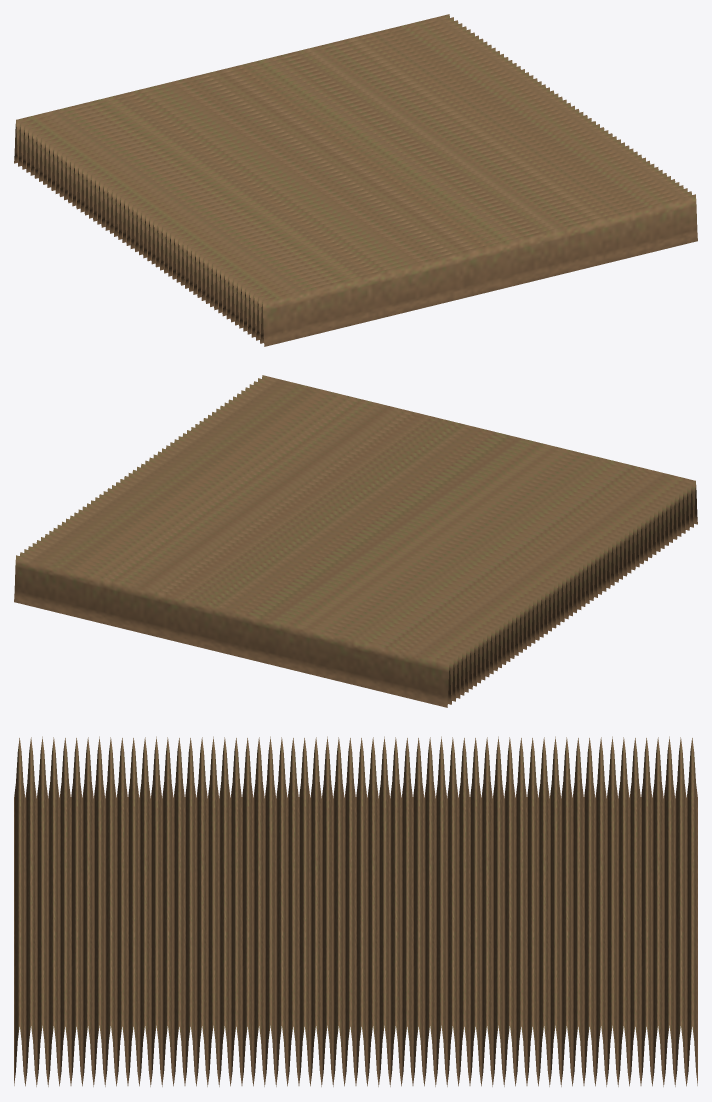
The model's file is field_fallow.glb.
3 renders of one model, top to bottom at view 1: azimuth 30°, elevation 25°; view 2: azimuth 150°, elevation 25°; view 3: azimuth 270°, elevation 25°, orthographic. The views are drawn at different scales.
Visible parts, largest first — view 1: field_fallow; view 2: field_fallow; view 3: field_fallow.
Boxes of the visible parts, <box> form: field_fallow: <box>14,14,697,346</box>; field_fallow: <box>14,375,697,707</box>; field_fallow: <box>14,736,697,1086</box>.
Bounding box in the file's own units: 10 × 1 × 10.
1 material, 1 textured.
